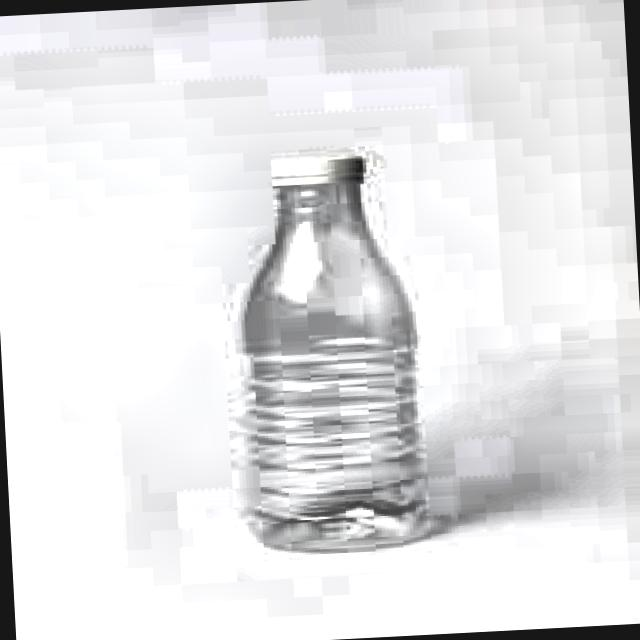plastic bottle: (244, 160, 437, 548)
